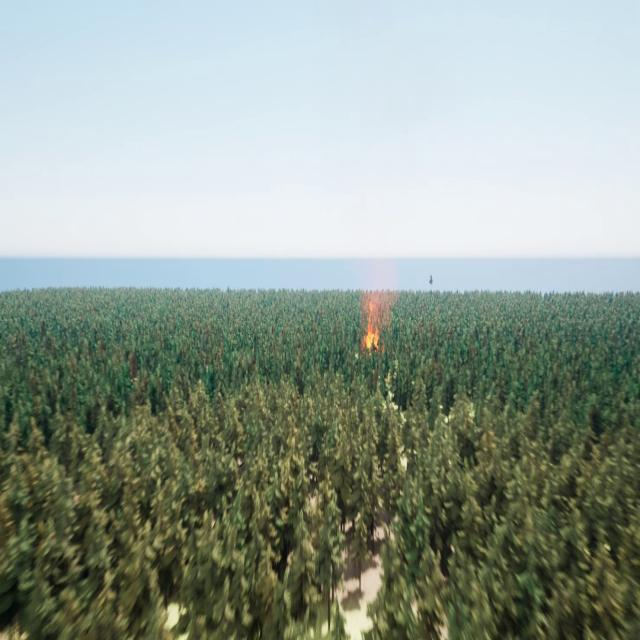fire: (362, 305, 380, 356)
smoke: (362, 259, 404, 327)
